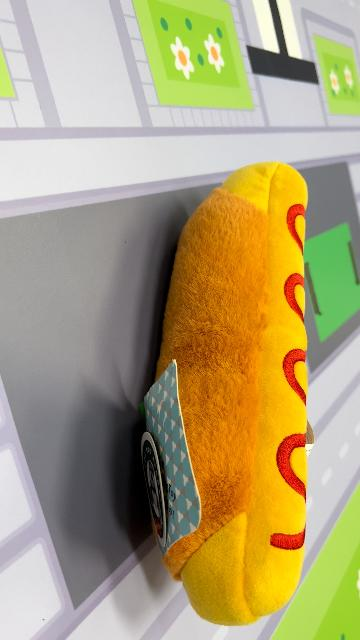hotdog: (140, 160, 312, 628)
